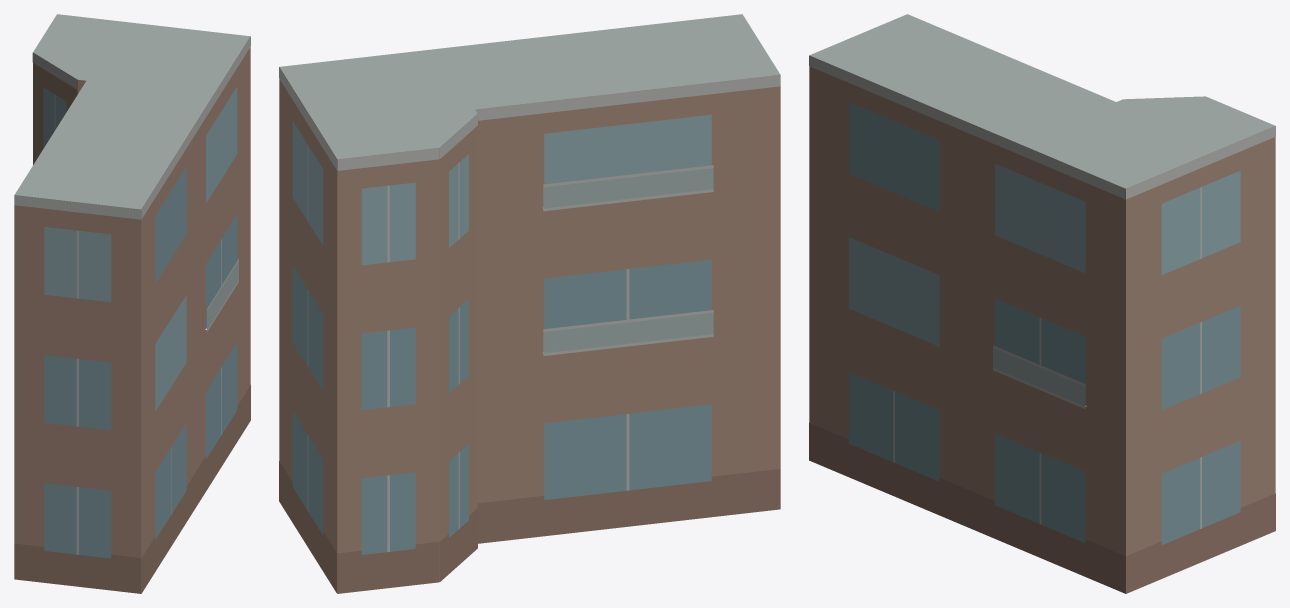
File: survey-upis-32933624.glb
The picture shows the model from 3 angles, left to right: view 1: azimuth 30°, elevation 25°; view 2: azimuth 150°, elevation 25°; view 3: azimuth 270°, elevation 25°; orthographic projection. The views are drawn at different scales.
Parts seen in each view (by area): view 1: survey-upis-32933624.tmp; view 2: survey-upis-32933624.tmp; view 3: survey-upis-32933624.tmp.
Boxes of the visible parts, bbox=[...] form: survey-upis-32933624.tmp: bbox=[14, 14, 250, 593]; survey-upis-32933624.tmp: bbox=[279, 14, 780, 593]; survey-upis-32933624.tmp: bbox=[809, 14, 1275, 593].
Bounding box in the file's own units: 8.47 × 9.15 × 9.56.
